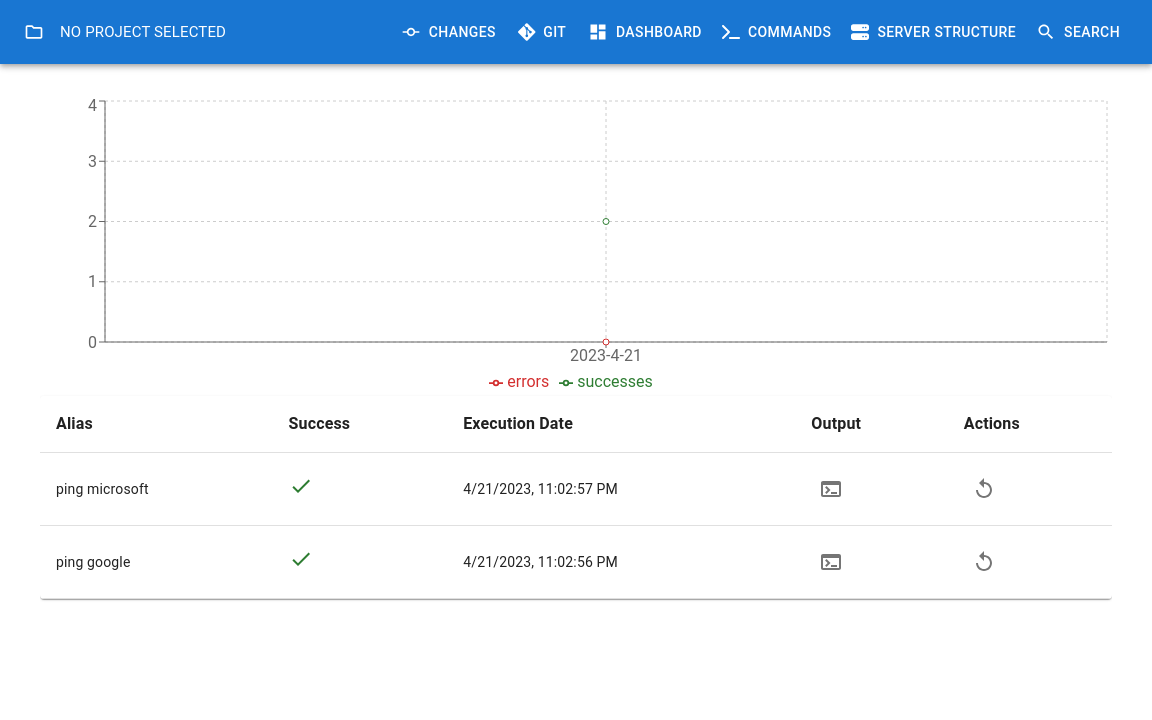
Scenario: Dashboard › displays the output dialog when the terminal icon is clicked
This screenshot has width=1152, height=720.
Click the button with id "button-show-output" at (831, 489), box x1=811 y1=469 x2=851 y2=509
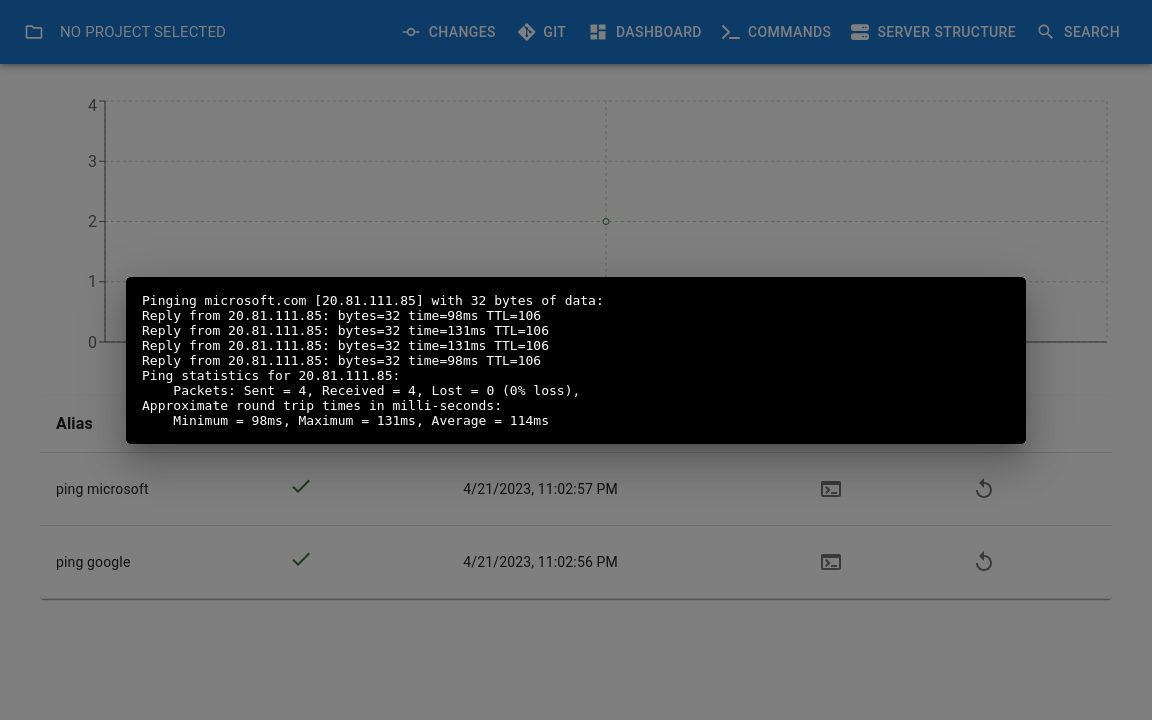
Check: the element with id "terminal" is shown, box x1=126 y1=277 x2=1026 y2=444
